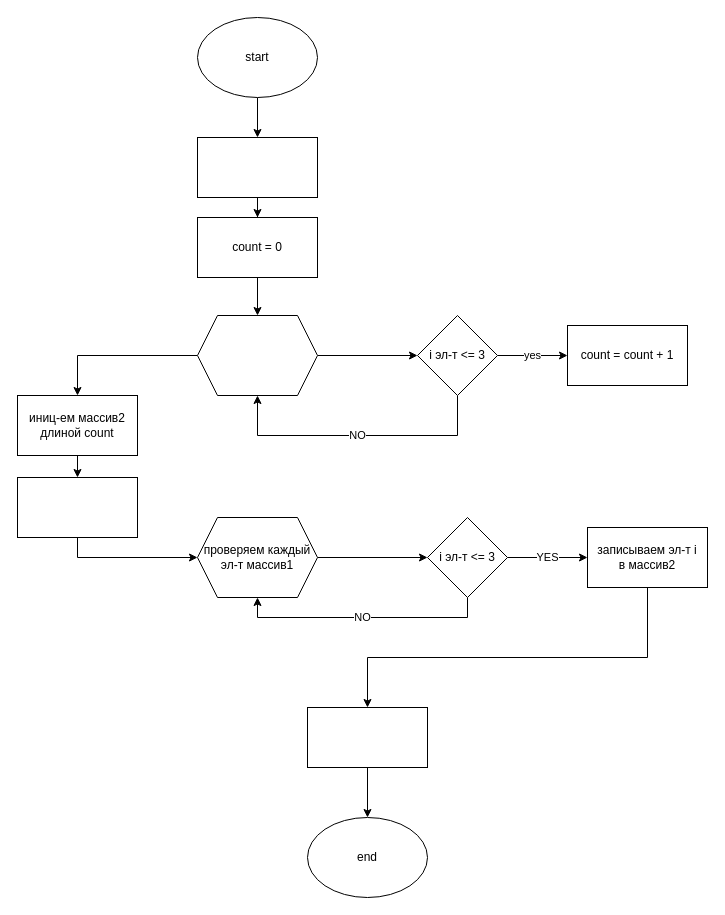
Image size: 725x915. Some labels were removed from this diagram. The shapes that lost their labels are listed below. From the top down, each one's centre as x and y in pixels, then its label:
At point 257,167: "назначаем массив1 из строк".
At point 257,355: "достаем каждый элемент массива".
At point 77,507: "i = 0".
At point 367,737: "показываем массив".
